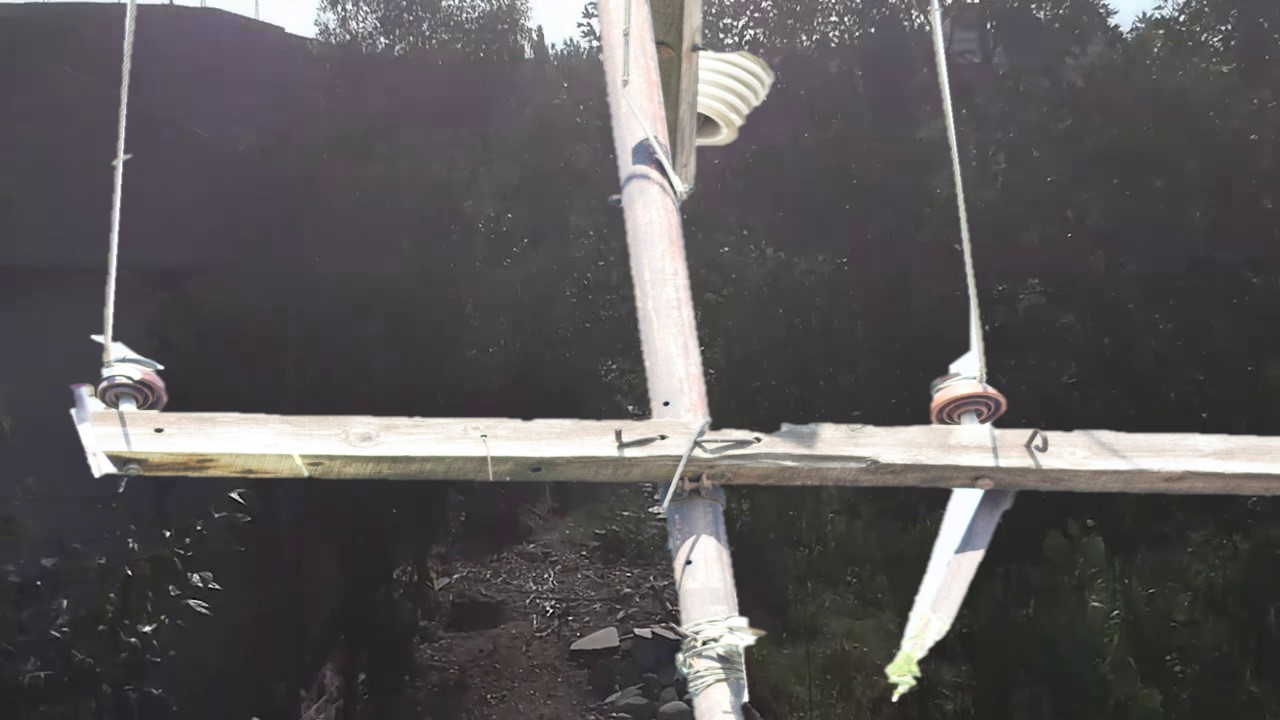defect_pin: (93, 342, 172, 416)
insulator_pin: (925, 367, 1013, 427)
